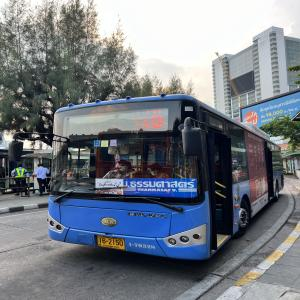BMTA-bus: (47, 94, 284, 262)
Bus Line Number: (128, 108, 168, 131)
Bus Side Number: (125, 239, 162, 252)
Destination Sign: (120, 176, 198, 198)
